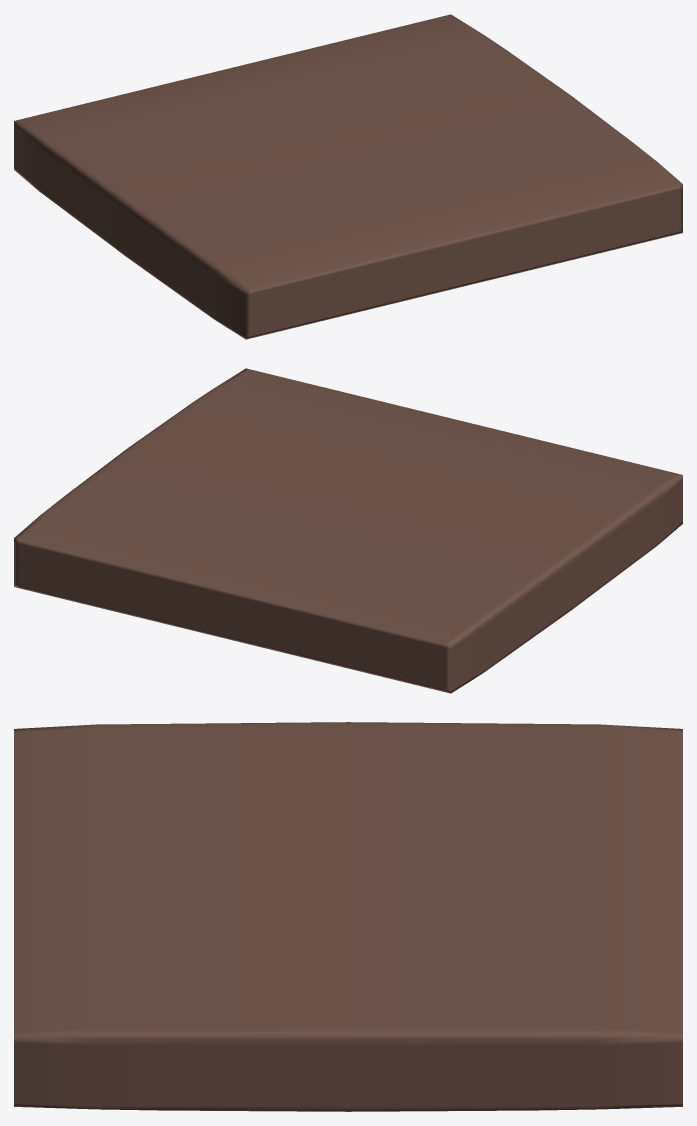
File: Plataforma.fbx
3 views of the same model, one above another, from view 1: azimuth 30°, elevation 25°; view 2: azimuth 150°, elevation 25°; view 3: azimuth 270°, elevation 25° (orthographic). The views are drawn at different scales.
Parts seen in each view (by area): view 1: pCube5; view 2: pCube5; view 3: pCube5.
Part boxes in pixels (left/top/right/bottom): pCube5: left=14, top=14, right=682, bottom=339; pCube5: left=14, top=368, right=682, bottom=693; pCube5: left=14, top=722, right=682, bottom=1111.
Size of the model in its own units: 1.57 by 0.1856 by 1.41.
